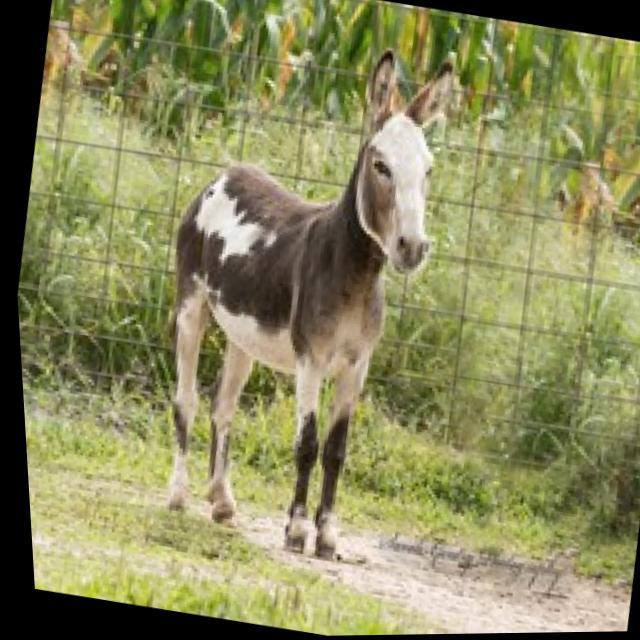Donkey: (90, 5, 521, 590)
